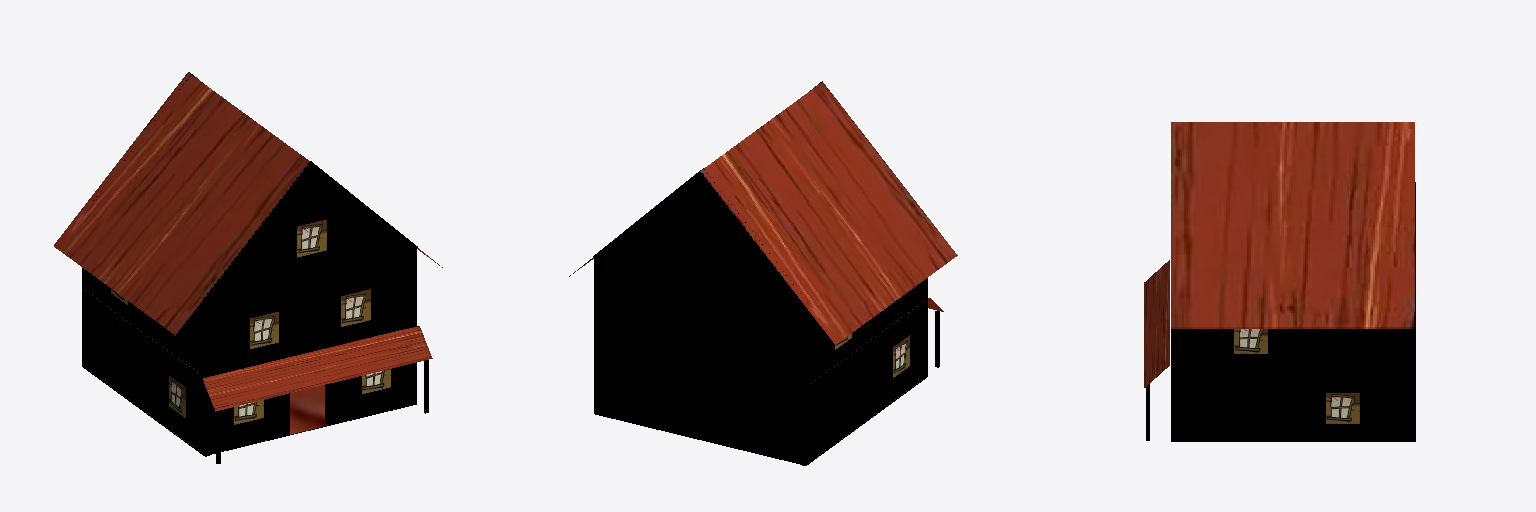
3 views of the same model, side by side, from view 1: azimuth 30°, elevation 25°; view 2: azimuth 150°, elevation 25°; view 3: azimuth 270°, elevation 25° (orthographic).
Visible parts, largest first — view 1: pasted__pasted__pasted__pasted__group18_pasted__pasted__pasted__; view 2: pasted__pasted__pasted__pasted__group18_pasted__pasted__pasted__; view 3: pasted__pasted__pasted__pasted__group18_pasted__pasted__pasted__.
Boxes of the visible parts, x1,y1,x2,y2 form: pasted__pasted__pasted__pasted__group18_pasted__pasted__pasted__: [54, 72, 442, 463]; pasted__pasted__pasted__pasted__group18_pasted__pasted__pasted__: [569, 81, 957, 465]; pasted__pasted__pasted__pasted__group18_pasted__pasted__pasted__: [1144, 122, 1415, 441].
Size of the model in its own units: 25.5 by 24.37 by 22.16.
26 materials, 3 textured.